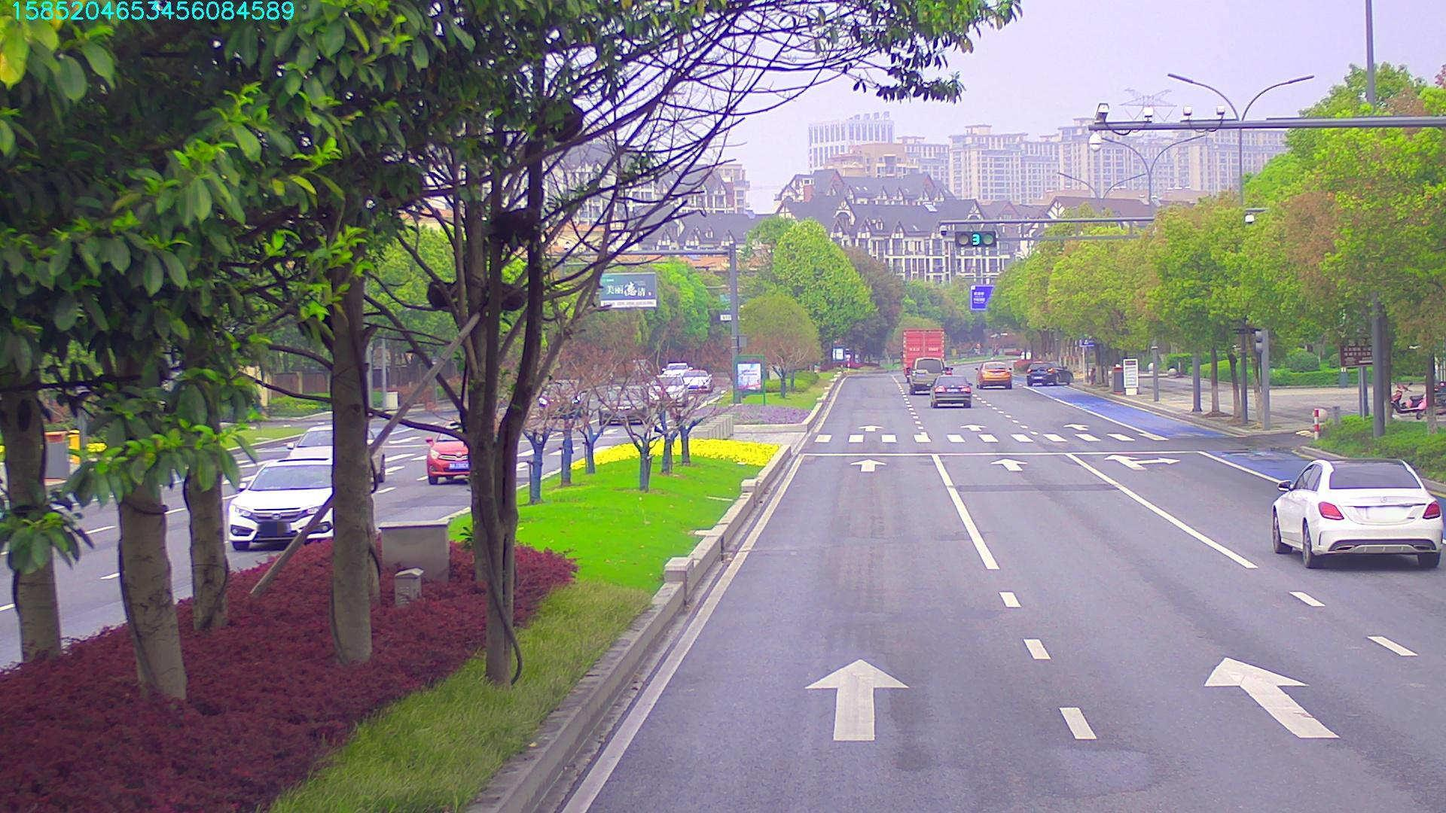green: (954, 230, 999, 250)
